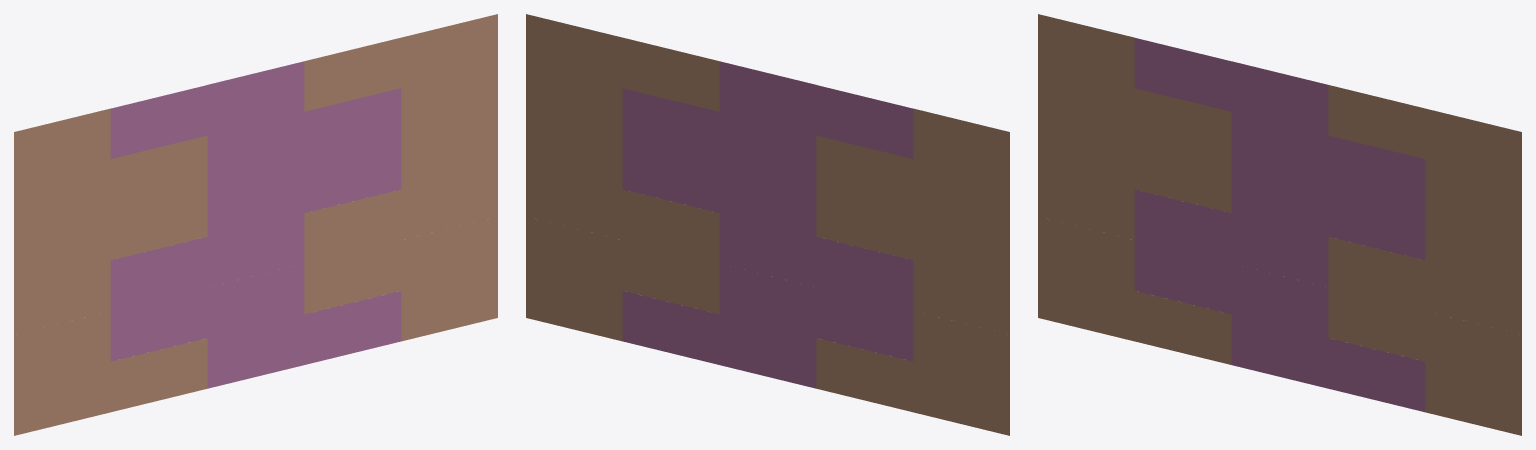
Rendered from file_digged_tilted_wide_2.fbx.
The picture shows the model from 3 angles, left to right: view 1: azimuth 30°, elevation 25°; view 2: azimuth 150°, elevation 25°; view 3: azimuth 330°, elevation 25°; orthographic projection.
Visible parts, largest first — view 1: file_digged_tilted_wide_3; view 2: file_digged_tilted_wide_3; view 3: file_digged_tilted_wide_3.
Part boxes in pixels (x1,y1,x2,y2): file_digged_tilted_wide_3: [14, 14, 497, 435]; file_digged_tilted_wide_3: [526, 14, 1009, 435]; file_digged_tilted_wide_3: [1038, 14, 1521, 435].
Size of the model in its own units: 60 by 36 by 0.
